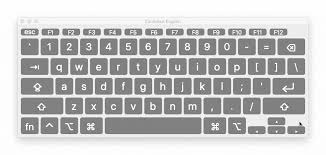keyboard: (16, 19, 312, 138)
